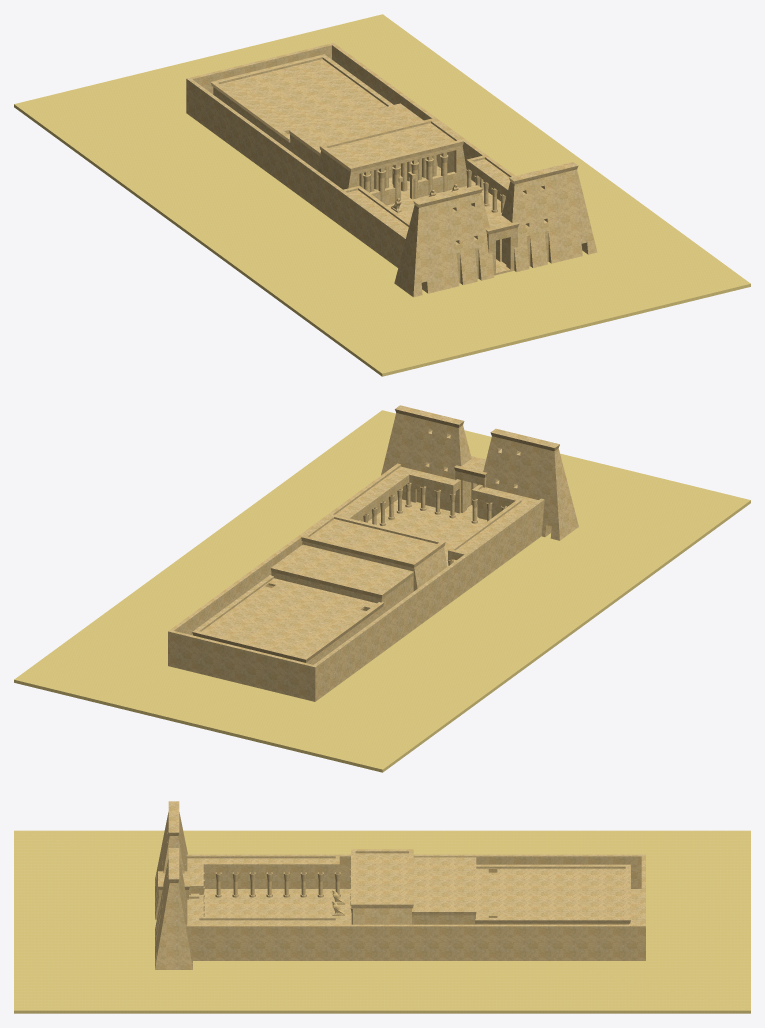
The model's file is temple.glb.
The picture shows the model from 3 angles, top to bottom: view 1: azimuth 30°, elevation 25°; view 2: azimuth 150°, elevation 25°; view 3: azimuth 270°, elevation 25°; orthographic projection.
Visible parts, largest first — view 1: Mesh2 Group2 Model, Mesh1 Group1 Model; view 2: Mesh2 Group2 Model, Mesh1 Group1 Model; view 3: Mesh2 Group2 Model, Mesh1 Group1 Model.
Boxes of the visible parts, x1,y1,x2,y2 form: Mesh2 Group2 Model: (14, 14, 750, 376); Mesh1 Group1 Model: (186, 43, 597, 297); Mesh2 Group2 Model: (14, 410, 750, 772); Mesh1 Group1 Model: (168, 405, 578, 701); Mesh2 Group2 Model: (14, 830, 750, 1013); Mesh1 Group1 Model: (155, 801, 645, 969).
Size of the model in its own units: 137 by 31.26 by 238.
Materials: 2 (2 with a texture image).
